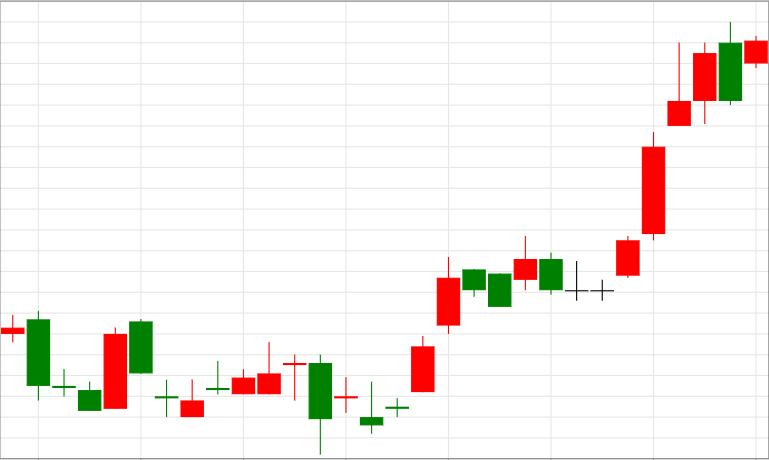shooting_star_fall: (566, 43, 691, 300)
